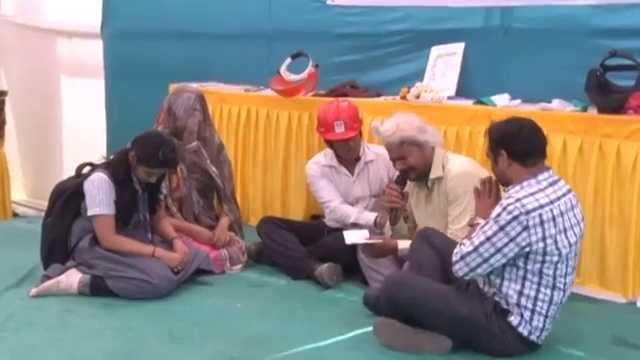helmet: (310, 105, 364, 141)
helmet_off: (482, 117, 558, 194), (374, 115, 446, 189), (120, 130, 179, 187), (159, 90, 212, 149)
helmet_on: (311, 100, 364, 165)
person: (364, 115, 587, 356), (30, 132, 208, 302), (352, 111, 505, 290), (254, 96, 395, 282), (145, 82, 245, 268)
